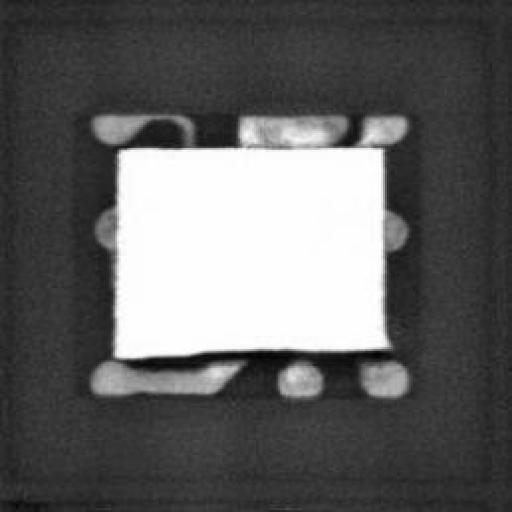DIE_BROKEN: (125, 341, 395, 366)
